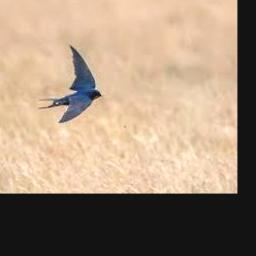Swallow: (39, 44, 102, 122)
